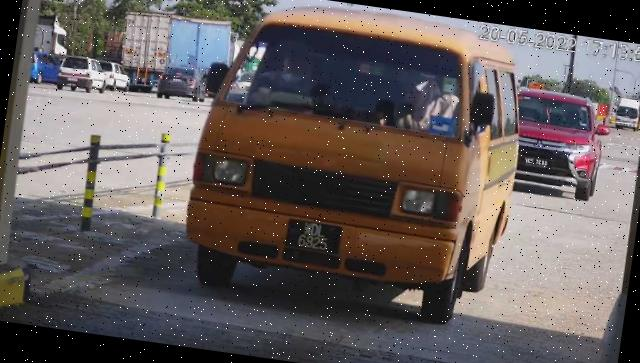License_Plate: (284, 215, 346, 259)
van: (178, 1, 534, 330)
